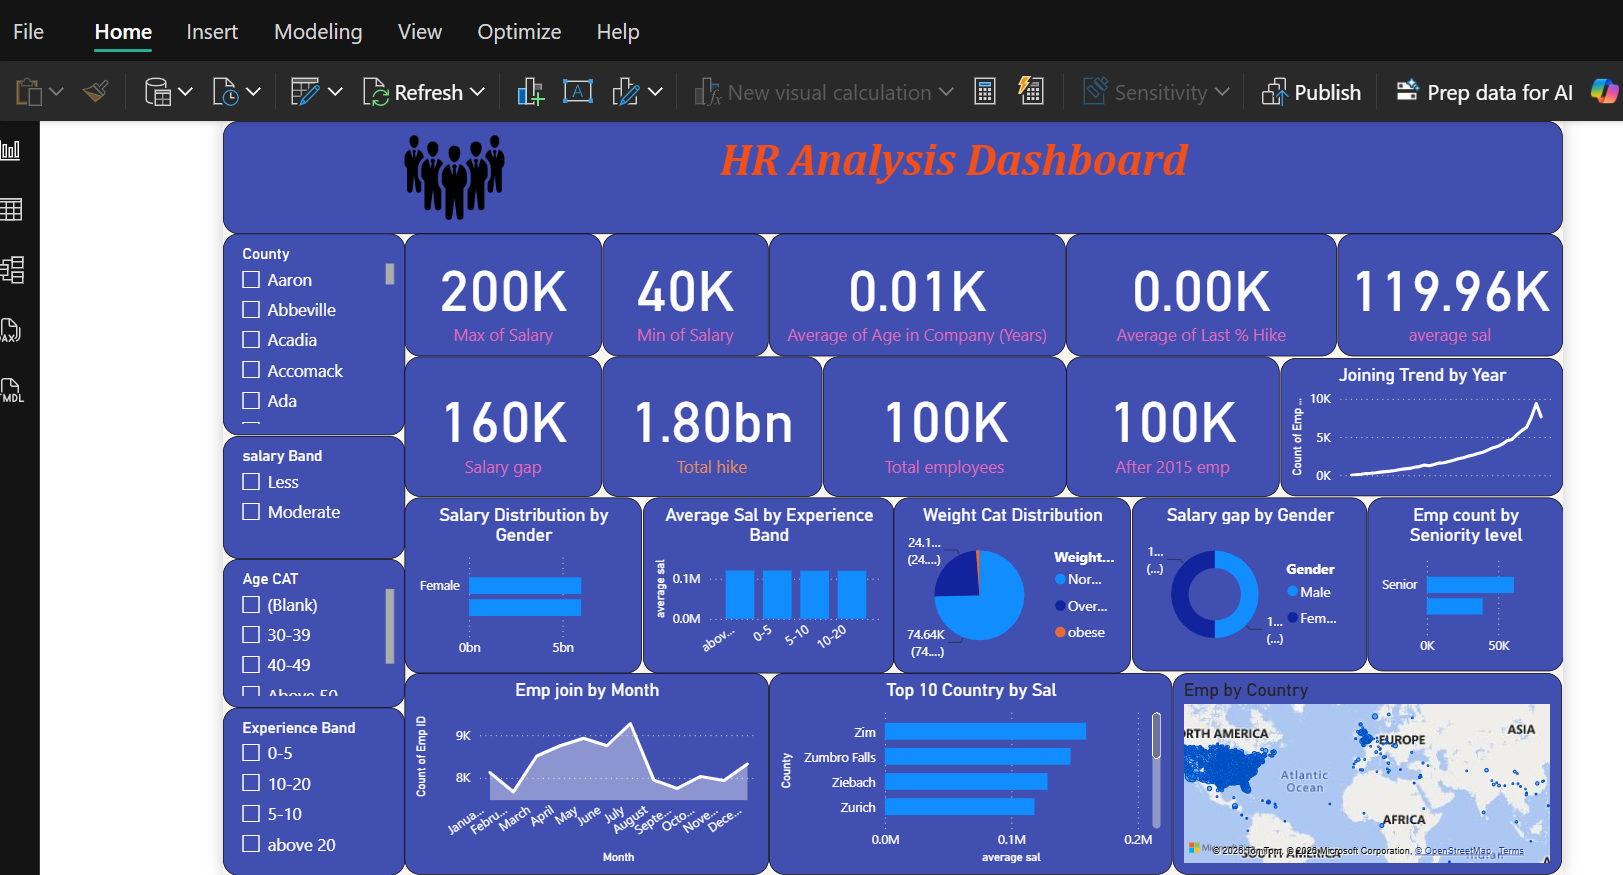

The dashboard page shown, as its layout file describes it:
{"tool":"powerbi","page":{"name":"Page 1","canvas":[1280,720],"ordinal":0},"visuals":[{"type":"textbox","box":[0,0,1279.4,107.7],"z":0},{"type":"card","fields":{"Values":["Min(Project_2_HR.Salary)"]},"box":[362.8,107.7,158.7,117.2],"z":1000},{"type":"card","fields":{"Values":["Max(Project_2_HR.Salary)"]},"box":[173.9,107.7,189,117.2],"z":2000},{"type":"card","fields":{"Values":["Avg(Project_2_HR.Age in Company (Years))"]},"box":[521.6,107.7,283.5,117.2],"z":3000},{"type":"card","fields":{"Values":["Avg(Project_2_HR.Last % Hike)"]},"box":[805,107.7,258.9,117.2],"z":4000},{"type":"image","box":[0,0,442.2,107.7],"z":5000},{"type":"slicer","fields":{"Values":["Project_2_HR.County"]},"box":[0,107.7,173.9,192.8],"z":6000},{"type":"slicer","fields":{"Values":["Project_2_HR.salary Band"]},"box":[0,300.5,173.9,117.2],"z":7000},{"type":"slicer","fields":{"Values":["Project_2_HR.Age CAT"]},"box":[0,417.6,173.9,141.7],"z":8000},{"type":"slicer","fields":{"Values":["Project_2_HR.Experience Band"]},"box":[0,559.4,173.9,160.6],"z":9000},{"type":"card","fields":{"Values":["Project_2_HR.average sal"]},"box":[1063.9,107.7,215.4,117.2],"z":10000},{"type":"card","fields":{"Values":["Project_2_HR.Salary gap"]},"box":[173.9,224.9,189,134.2],"z":11000},{"type":"card","fields":{"Values":["Project_2_HR.Total hike"]},"box":[362.8,224.9,209.8,134.2],"z":12000},{"type":"card","fields":{"Values":["Project_2_HR.Total employees"]},"box":[572.6,224.9,232.4,134.2],"z":13000},{"type":"card","fields":{"Values":["Project_2_HR.After 2015 emp"]},"box":[805,224.9,204.1,134.2],"z":14000},{"type":"lineChart","title":"Joining Trend by Year","fields":{"Category":["Project_2_HR.Joining Date.Variation.Date Hierarchy.Year"],"Y":["CountNonNull(Project_2_HR.Emp ID)"]},"box":[1009.1,226.8,270.2,132.3],"z":15000},{"type":"clusteredBarChart","title":"Salary Distribution by Gender","fields":{"Category":["Project_2_HR.Gender"],"Y":["Sum(Project_2_HR.Salary)"]},"box":[173.9,359.1,226.8,168.2],"z":16000},{"type":"clusteredColumnChart","title":"Average Sal by Experience Band","fields":{"Category":["Project_2_HR.Experience Band"],"Y":["Project_2_HR.average sal"]},"box":[400.6,359.1,240,168.2],"z":17000},{"type":"pieChart","title":" Weight Cat Distribution","fields":{"Category":["Project_2_HR.Weight CAT"],"Y":["CountNonNull(Project_2_HR.Emp ID)"]},"box":[640.6,359.1,226.8,168.2],"z":18000},{"type":"donutChart","fields":{"Category":["Project_2_HR.Gender"],"Y":["Project_2_HR.Salary gap"]},"box":[867.4,359.1,224.9,166.3],"z":19000},{"type":"barChart","title":" Emp count  by Seniority level","fields":{"Category":["Project_2_HR.Seniority level"],"Y":["CountNonNull(Project_2_HR.Emp ID)"]},"box":[1092.3,359.1,187.1,166.3],"z":20000},{"type":"areaChart","title":"Emp join  by Month","fields":{"Category":["Project_2_HR.Joining Date.Variation.Date Hierarchy.Month"],"Y":["CountNonNull(Project_2_HR.Emp ID)"]},"box":[173.9,527.2,347.7,192.8],"z":21000},{"type":"clusteredBarChart","title":"Top 10 Country  by Sal","fields":{"Category":["Project_2_HR.County"],"Y":["Project_2_HR.average sal"]},"box":[521.6,527.2,385.5,192.8],"z":22000},{"type":"map","title":" Emp  by Country","fields":{"Category":["Project_2_HR.County"],"Size":["CountNonNull(Project_2_HR.Emp ID)"]},"box":[907.1,527.2,372.3,192.8],"z":23000}]}

Visuals, with their boxes on the page's 1280x720 design canvas (x1, y1, x2, y2). These are canvas units, not pixel positions in the 1623x875 screenshot, which may show the page scaled, cropped or inside an application window:
textbox: [0,0,1279,108]
card - Min(Project_2_HR.Salary): [363,108,522,225]
card - Max(Project_2_HR.Salary): [174,108,363,225]
card - Avg(Project_2_HR.Age in Company (Years)): [522,108,805,225]
card - Avg(Project_2_HR.Last % Hike): [805,108,1064,225]
image: [0,0,442,108]
slicer - Project_2_HR.County: [0,108,174,300]
slicer - Project_2_HR.salary Band: [0,300,174,418]
slicer - Project_2_HR.Age CAT: [0,418,174,559]
slicer - Project_2_HR.Experience Band: [0,559,174,720]
card - Project_2_HR.average sal: [1064,108,1279,225]
card - Project_2_HR.Salary gap: [174,225,363,359]
card - Project_2_HR.Total hike: [363,225,573,359]
card - Project_2_HR.Total employees: [573,225,805,359]
card - Project_2_HR.After 2015 emp: [805,225,1009,359]
"Joining Trend by Year" lineChart: [1009,227,1279,359]
"Salary Distribution by Gender" clusteredBarChart: [174,359,401,527]
"Average Sal by Experience Band" clusteredColumnChart: [401,359,641,527]
" Weight Cat Distribution" pieChart: [641,359,867,527]
donutChart - Project_2_HR.Gender x Project_2_HR.Salary gap: [867,359,1092,525]
" Emp count  by Seniority level" barChart: [1092,359,1279,525]
"Emp join  by Month" areaChart: [174,527,522,720]
"Top 10 Country  by Sal" clusteredBarChart: [522,527,907,720]
" Emp  by Country" map: [907,527,1279,720]
